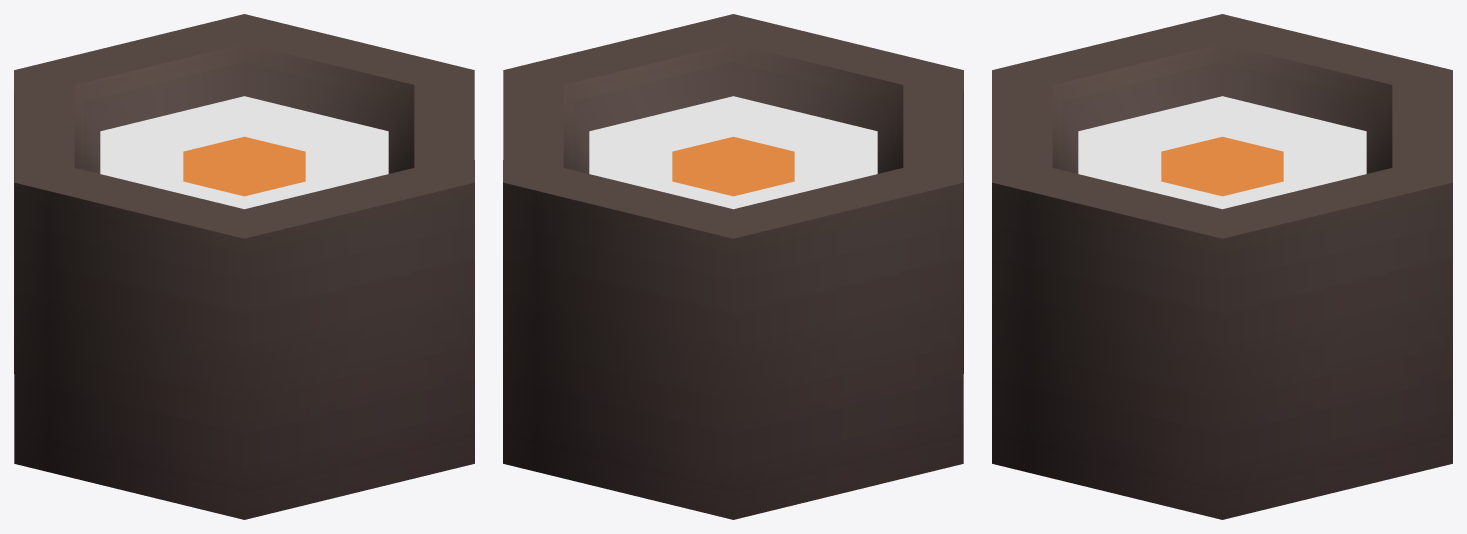
The model's file is maki-salmon.glb.
3 renders of one model, left to right at view 1: azimuth 30°, elevation 25°; view 2: azimuth 150°, elevation 25°; view 3: azimuth 270°, elevation 25°, orthographic.
Parts seen in each view (by area): view 1: maki-salmon; view 2: maki-salmon; view 3: maki-salmon.
Part boxes in pixels (x1=…): maki-salmon: x1=14, y1=14, x2=474, y2=519; maki-salmon: x1=503, y1=14, x2=963, y2=519; maki-salmon: x1=992, y1=14, x2=1452, y2=519.
Size of the model in its own units: 0.12 by 0.07 by 0.1039.
Materials: 1 (1 with a texture image).
